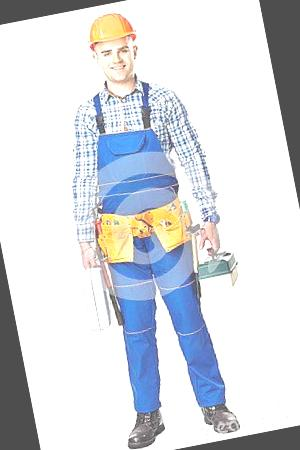helmet: (77, 8, 146, 52)
no_vest: (49, 79, 233, 307)
person: (35, 0, 266, 447)
